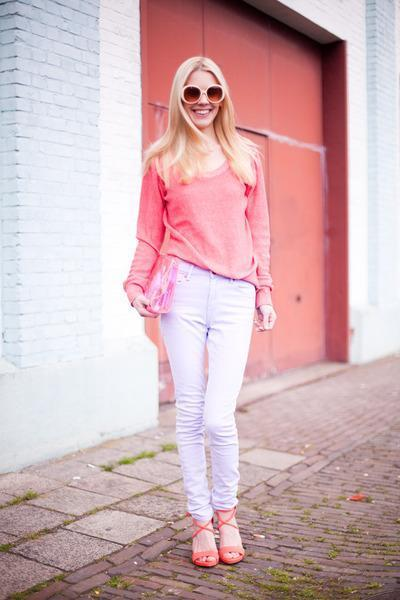bag: (149, 260, 178, 316)
pants: (159, 262, 253, 522)
shirt: (125, 162, 273, 299)
shoe: (193, 540, 227, 565)
sunglass: (184, 87, 222, 100)
